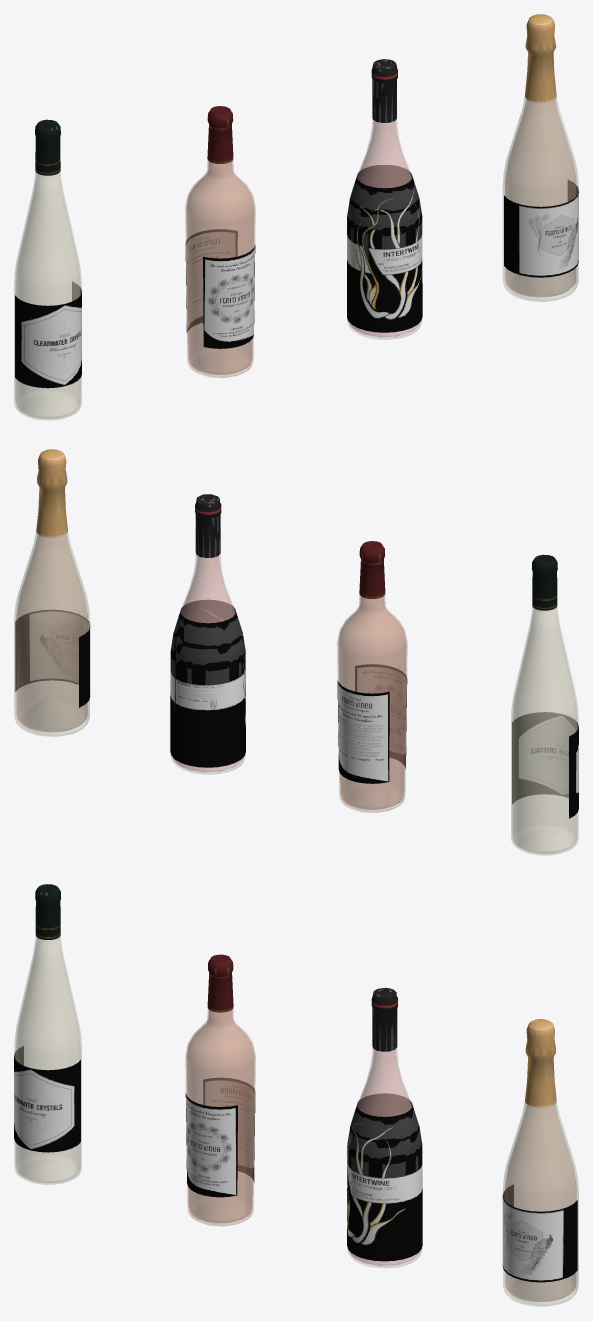
Rendered from wine_bottles_01.glb.
3 views of the same model, one above another, from view 1: azimuth 30°, elevation 25°; view 2: azimuth 150°, elevation 25°; view 3: azimuth 330°, elevation 25° (orthographic).
Parts seen in each view (by area): view 1: wine_bottles_01_champagne, wine_bottles_01_alsace, wine_bottles_01_burgundy, wine_bottles_01_bordeaux; view 2: wine_bottles_01_champagne, wine_bottles_01_alsace, wine_bottles_01_burgundy, wine_bottles_01_bordeaux; view 3: wine_bottles_01_champagne, wine_bottles_01_alsace, wine_bottles_01_burgundy, wine_bottles_01_bordeaux.
Part boxes in pixels (bbox=[...]): wine_bottles_01_champagne: bbox=[503, 14, 578, 301]; wine_bottles_01_alsace: bbox=[14, 119, 81, 420]; wine_bottles_01_burgundy: bbox=[347, 59, 422, 339]; wine_bottles_01_bordeaux: bbox=[185, 106, 255, 377]; wine_bottles_01_champagne: bbox=[14, 449, 90, 736]; wine_bottles_01_alsace: bbox=[511, 554, 578, 855]; wine_bottles_01_burgundy: bbox=[170, 494, 245, 774]; wine_bottles_01_bordeaux: bbox=[337, 541, 407, 812]; wine_bottles_01_champagne: bbox=[502, 1019, 578, 1306]; wine_bottles_01_alsace: bbox=[14, 884, 81, 1184]; wine_bottles_01_burgundy: bbox=[347, 987, 422, 1268]; wine_bottles_01_bordeaux: bbox=[185, 954, 255, 1226].
Bounding box in the file's own units: 0.6763 × 0.3314 × 0.0805.
Materials: 12 (9 with a texture image).
